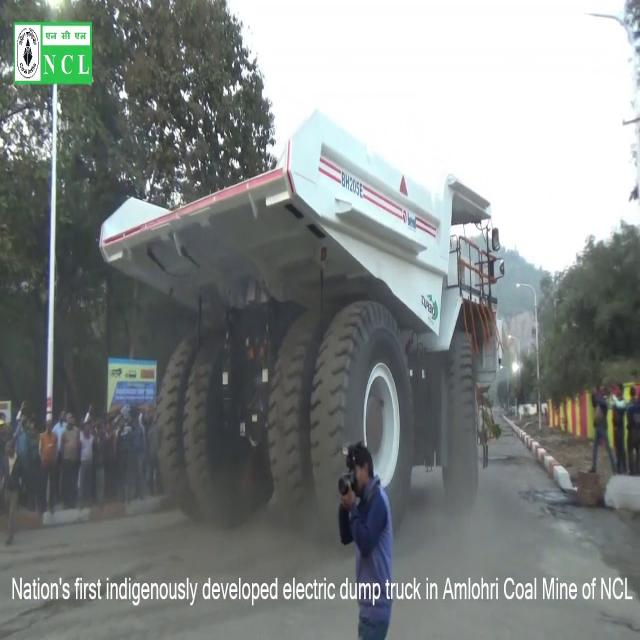truck: (101, 113, 502, 526)
